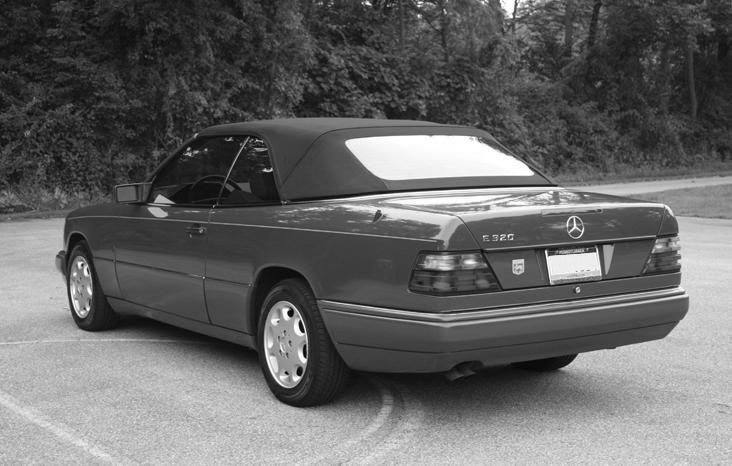car: (57, 111, 691, 413)
